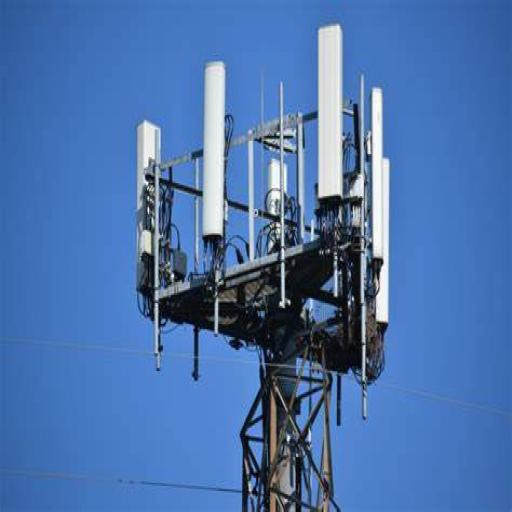supporting_tower: (121, 32, 407, 512)
